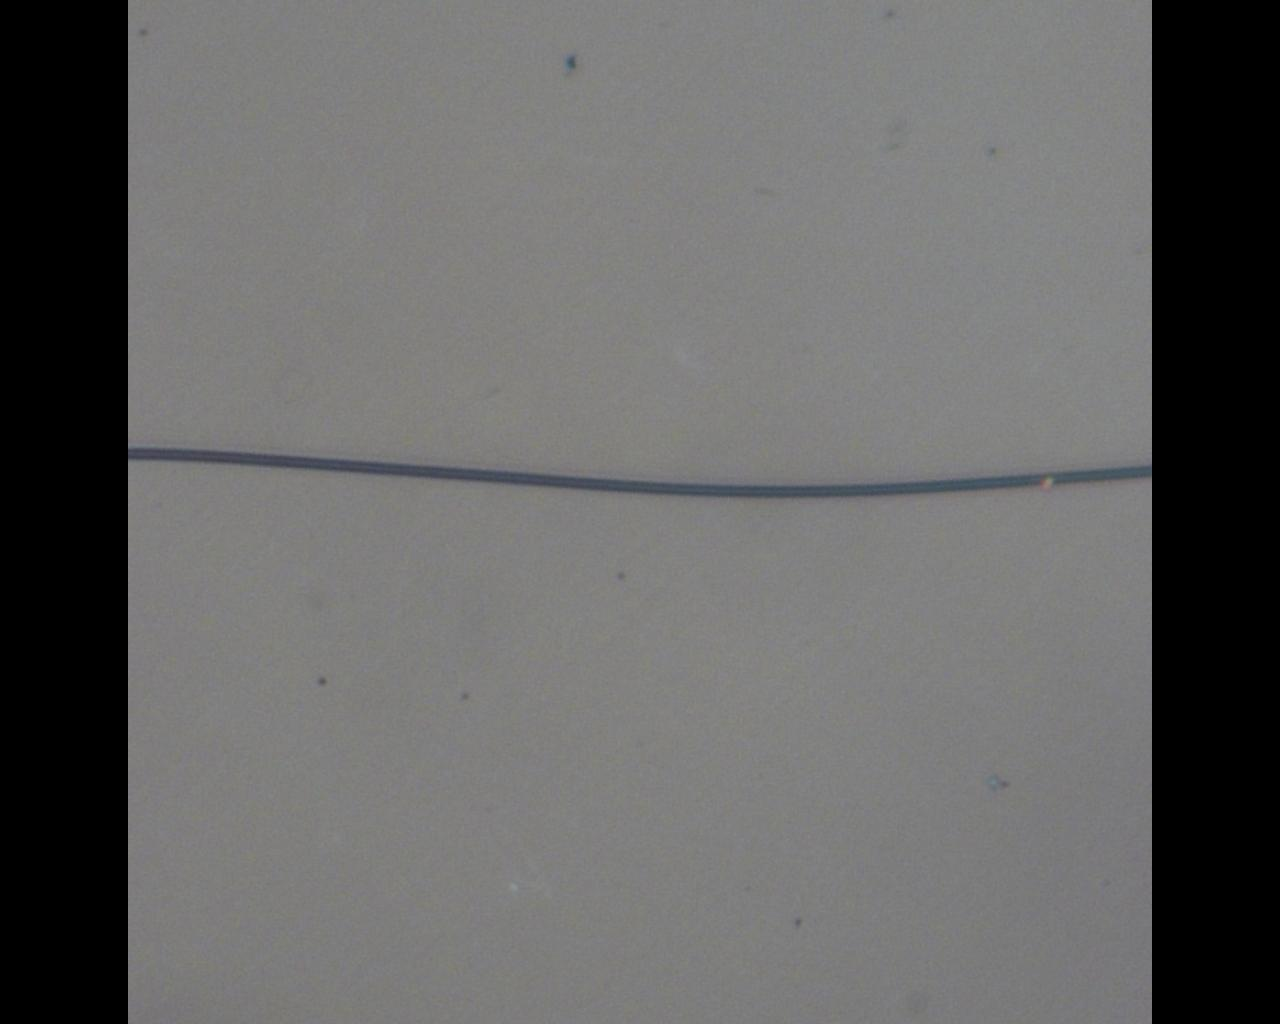fiber: (127, 443, 1151, 498)
